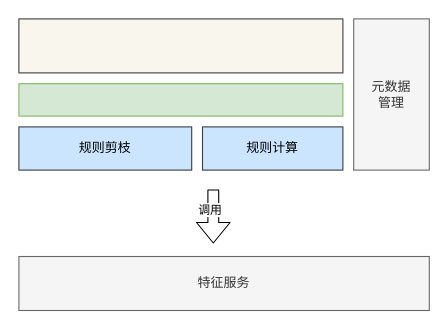
This 448x329 diagram has some shape labels left out. Here are the shapes that lost their labels. From the top down, the centre of each, then its label:
At [180,45]: "规则(Expression)".
At [180,99]: "规则解析".
